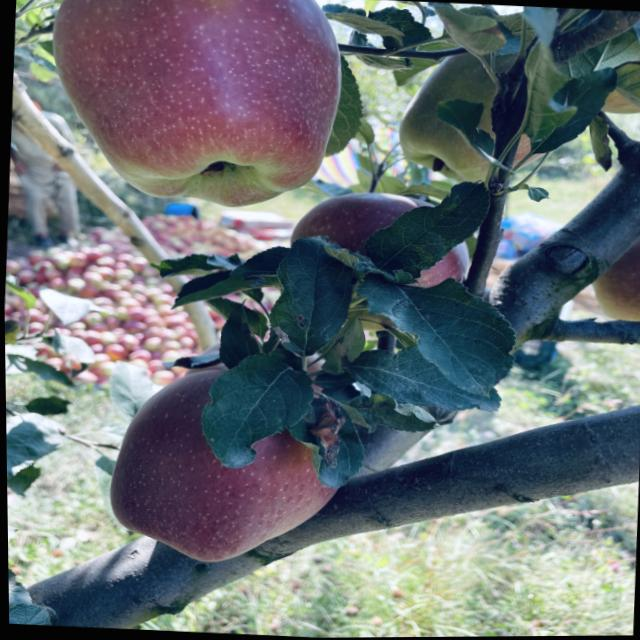Apple: (53, 0, 340, 207), (109, 365, 333, 563), (291, 193, 430, 255), (416, 244, 468, 288)
